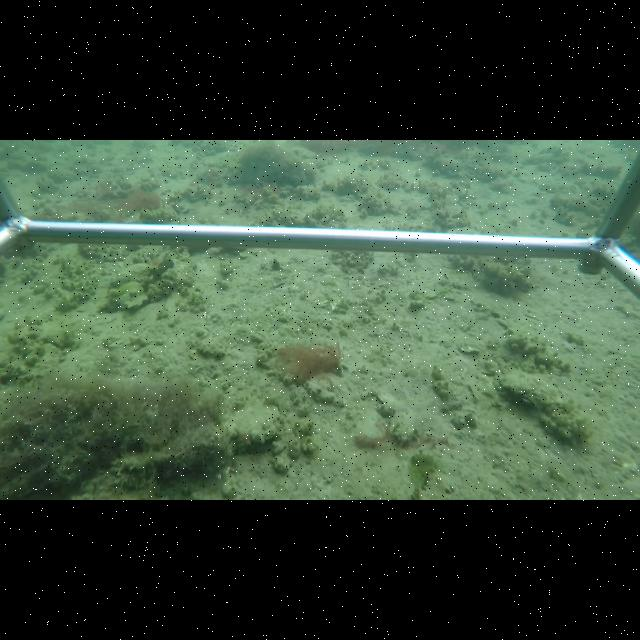Oyster-Closed: (494, 357, 573, 407)
